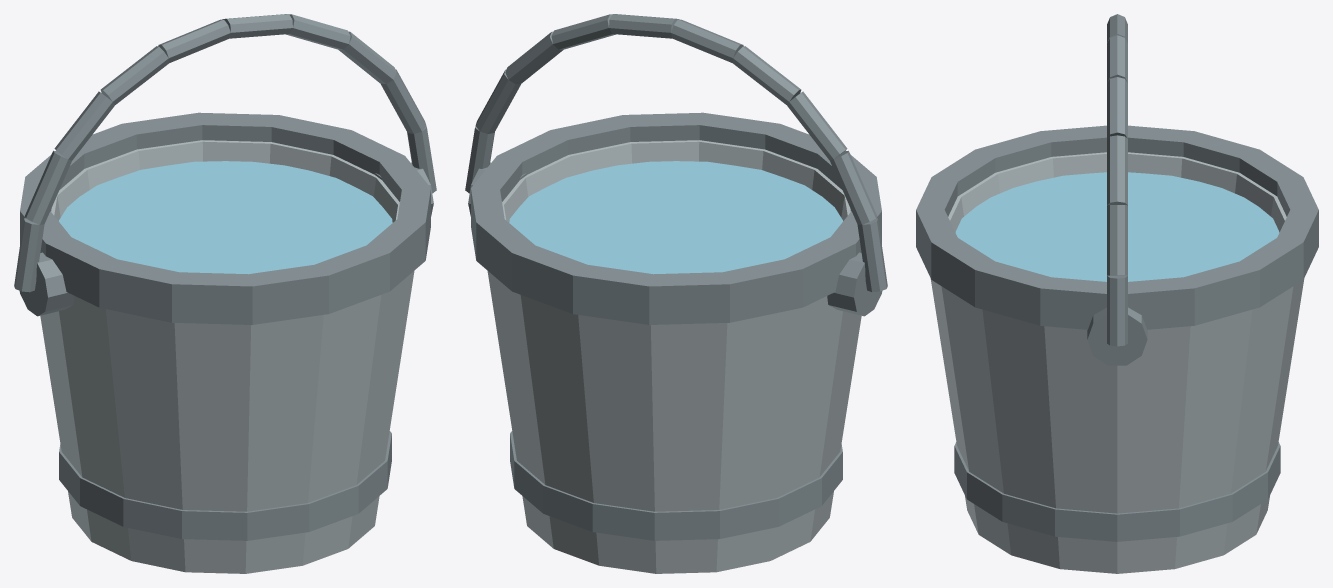
Rendered from MetalBucket_Water.glb.
The picture shows the model from 3 angles, left to right: view 1: azimuth 30°, elevation 25°; view 2: azimuth 150°, elevation 25°; view 3: azimuth 270°, elevation 25°; orthographic projection. The views are drawn at different scales.
Parts seen in each view (by area): view 1: StaticVisual, LiquidSurface; view 2: StaticVisual, LiquidSurface; view 3: StaticVisual, LiquidSurface.
Boxes of the visible parts, x1,y1,x2,y2 form: StaticVisual: (14,14,436,573); LiquidSurface: (59,161,392,274); StaticVisual: (465,14,887,573); LiquidSurface: (509,161,842,274); StaticVisual: (916,14,1318,573); LiquidSurface: (955,172,1279,281).
Size of the model in its own units: 0.6277 by 0.6988 by 0.536.
